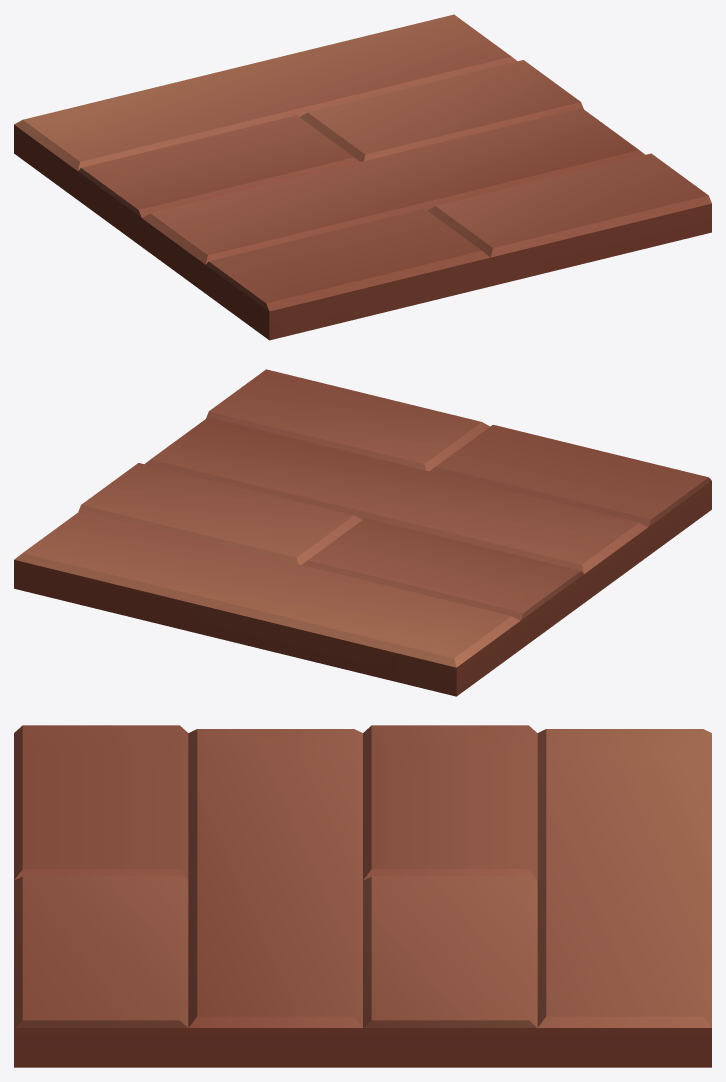
The model's file is b_donjon_sol_plancher.glb.
3 renders of one model, top to bottom at view 1: azimuth 30°, elevation 25°; view 2: azimuth 150°, elevation 25°; view 3: azimuth 270°, elevation 25°, orthographic. The views are drawn at different scales.
Visible parts, largest first — view 1: b_donjon_sol_plancher; view 2: b_donjon_sol_plancher; view 3: b_donjon_sol_plancher.
Part boxes in pixels (x1,y1,x2,y2): b_donjon_sol_plancher: (14,14,711,340); b_donjon_sol_plancher: (14,369,711,696); b_donjon_sol_plancher: (14,725,711,1067).
Size of the model in its own units: 2 by 0.1499 by 2.
Materials: 1 (1 with a texture image).
